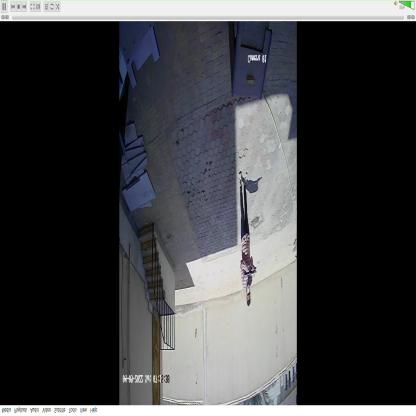handgun: (240, 257, 258, 279)
